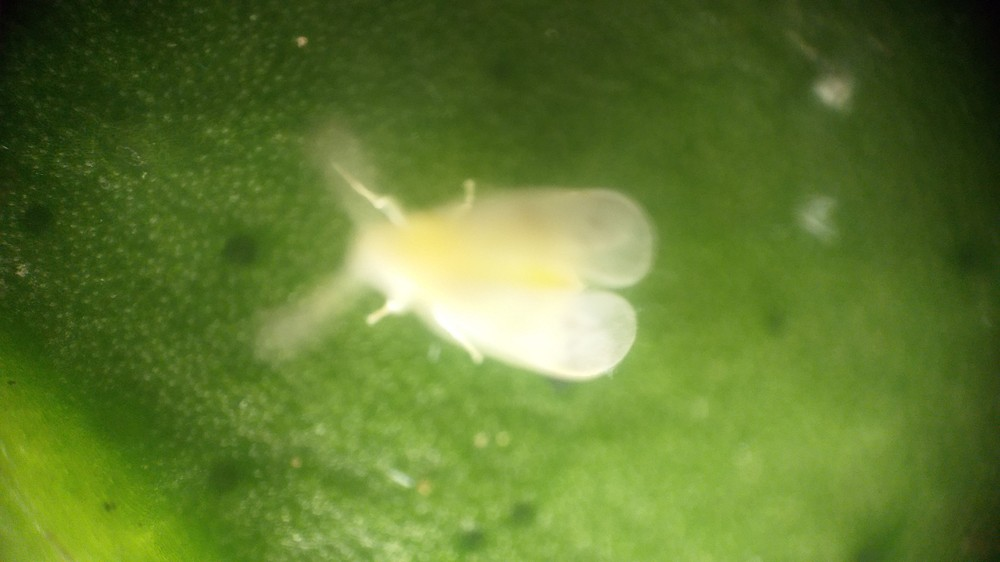Mosca Blanca: (281, 137, 672, 424)
